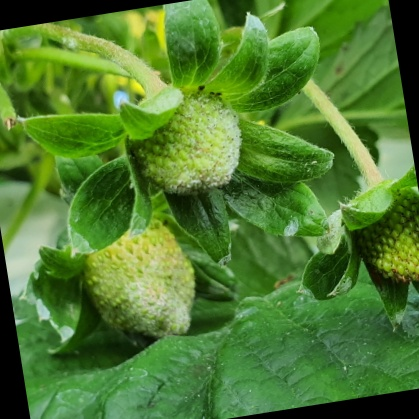Powdery_Fruit: (140, 86, 255, 191), (88, 257, 188, 330)
